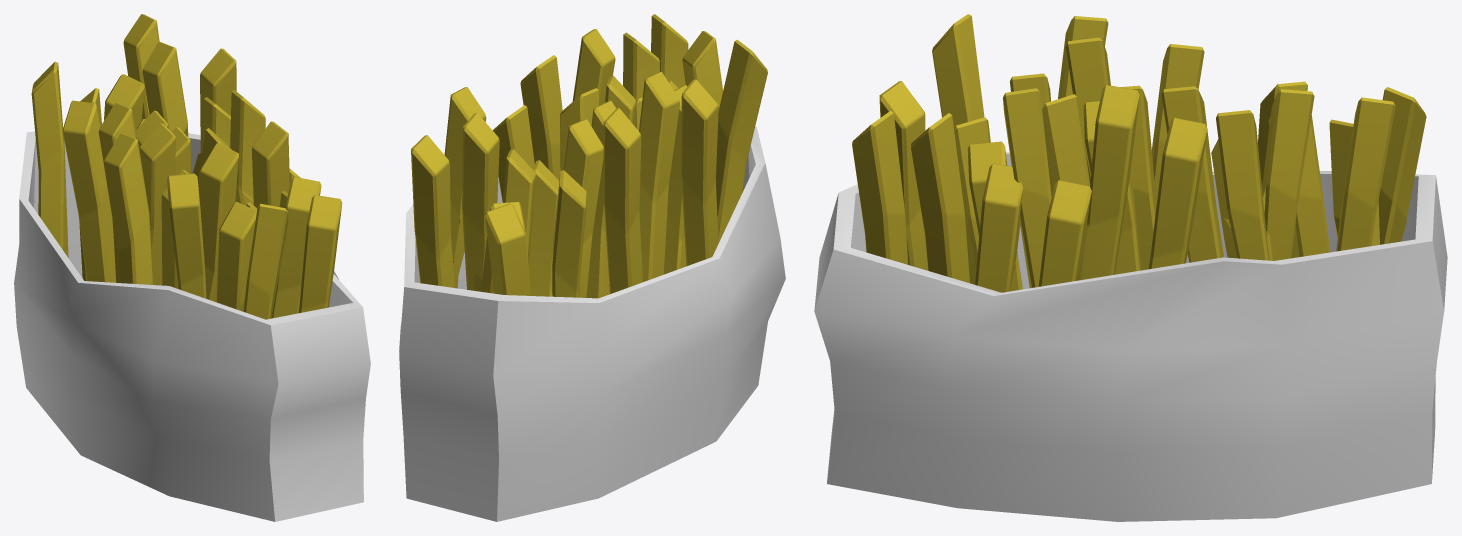
File: Patate_fritte.fbx
3 views of the same model, side by side, from view 1: azimuth 30°, elevation 25°; view 2: azimuth 150°, elevation 25°; view 3: azimuth 270°, elevation 25° (orthographic). The views are drawn at different scales.
Visible parts, largest first — view 1: pCube318; view 2: pCube318; view 3: pCube318.
Part boxes in pixels (x1=…): pCube318: x1=14, y1=14, x2=370, y2=521; pCube318: x1=399, y1=14, x2=785, y2=521; pCube318: x1=814, y1=14, x2=1447, y2=521.
Size of the model in its own units: 0.0464 by 0.0571 by 0.083.
